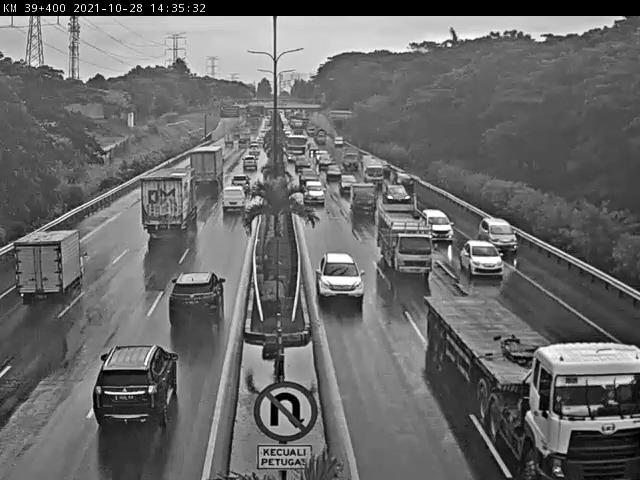big truck: (418, 284, 629, 473), (140, 169, 199, 233), (191, 147, 226, 188), (285, 135, 307, 162)
car: (95, 347, 177, 430), (168, 273, 226, 329), (319, 256, 364, 300), (453, 234, 494, 269), (469, 212, 506, 247), (415, 205, 447, 235), (346, 178, 371, 206), (221, 188, 246, 211), (389, 168, 413, 190), (381, 182, 407, 201), (229, 176, 252, 196), (305, 183, 325, 202), (338, 172, 353, 192), (241, 156, 258, 171), (293, 156, 309, 169), (298, 166, 314, 179), (319, 151, 332, 165), (323, 162, 336, 176)
small truck: (13, 230, 84, 297), (374, 203, 427, 269), (365, 157, 389, 183), (340, 152, 355, 167)
